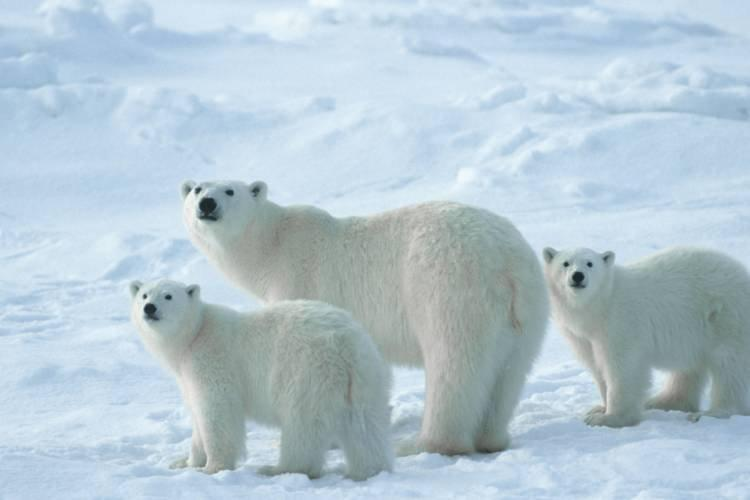bear: (181, 178, 550, 455), (131, 278, 397, 479), (543, 243, 750, 426)
